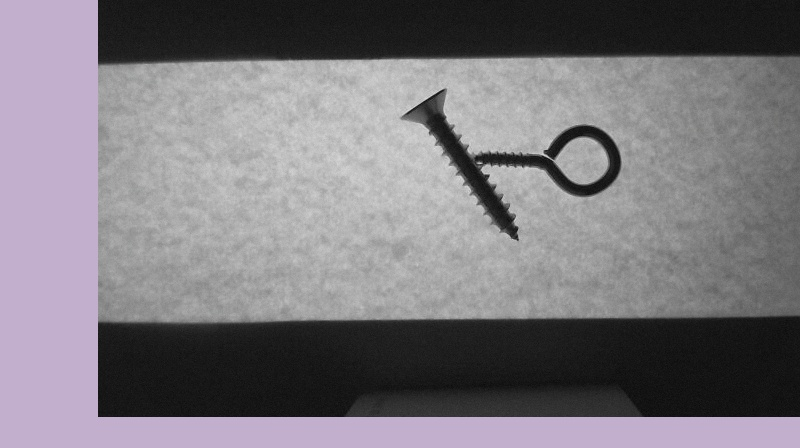O001: (467, 122, 620, 196)
S001: (398, 88, 521, 240)
